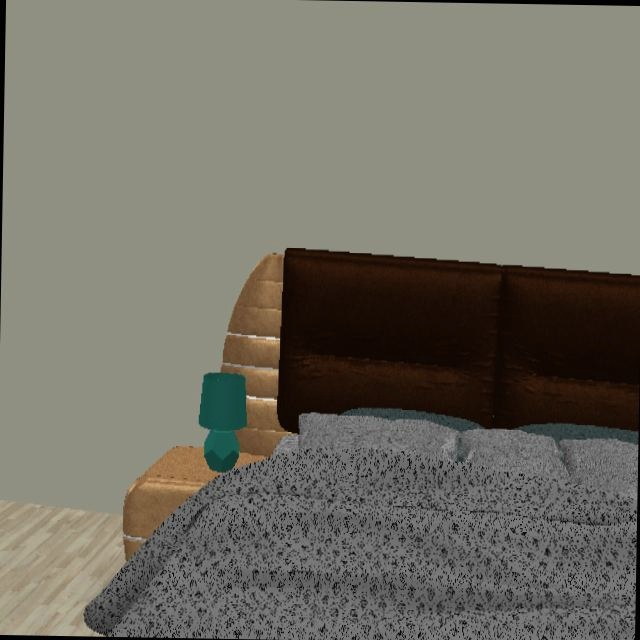bed: (82, 412, 638, 640)
lamp: (198, 373, 248, 473)
nighttable: (121, 447, 217, 559)
pillow: (523, 425, 638, 488), (298, 413, 458, 457), (458, 429, 567, 475)
